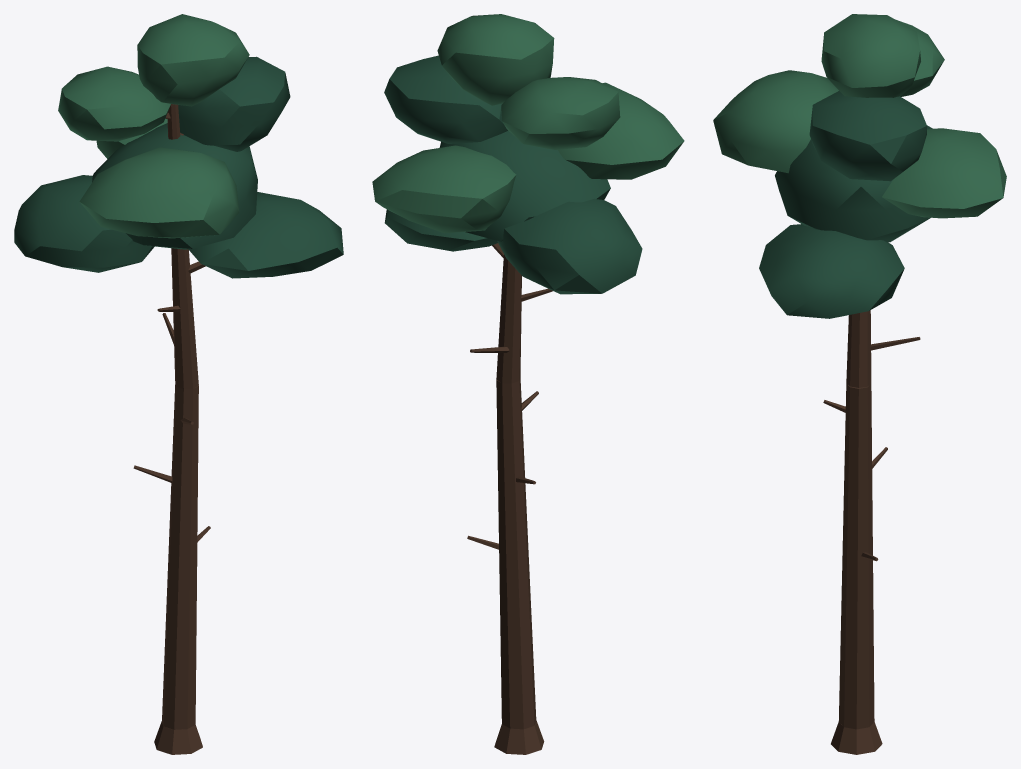
Rendered from tree_pine.glb.
3 renders of one model, left to right at view 1: azimuth 30°, elevation 25°; view 2: azimuth 150°, elevation 25°; view 3: azimuth 270°, elevation 25°, orthographic. The views are drawn at different scales.
Visible parts, largest first — view 1: tree_pine; view 2: tree_pine; view 3: tree_pine.
Boxes of the visible parts, x1,y1,x2,y2 form: tree_pine: (14,14,343,754); tree_pine: (372,14,684,754); tree_pine: (713,14,1006,754).
Size of the model in its own units: 7.21 by 18 by 6.56.
Materials: 1 (1 with a texture image).
